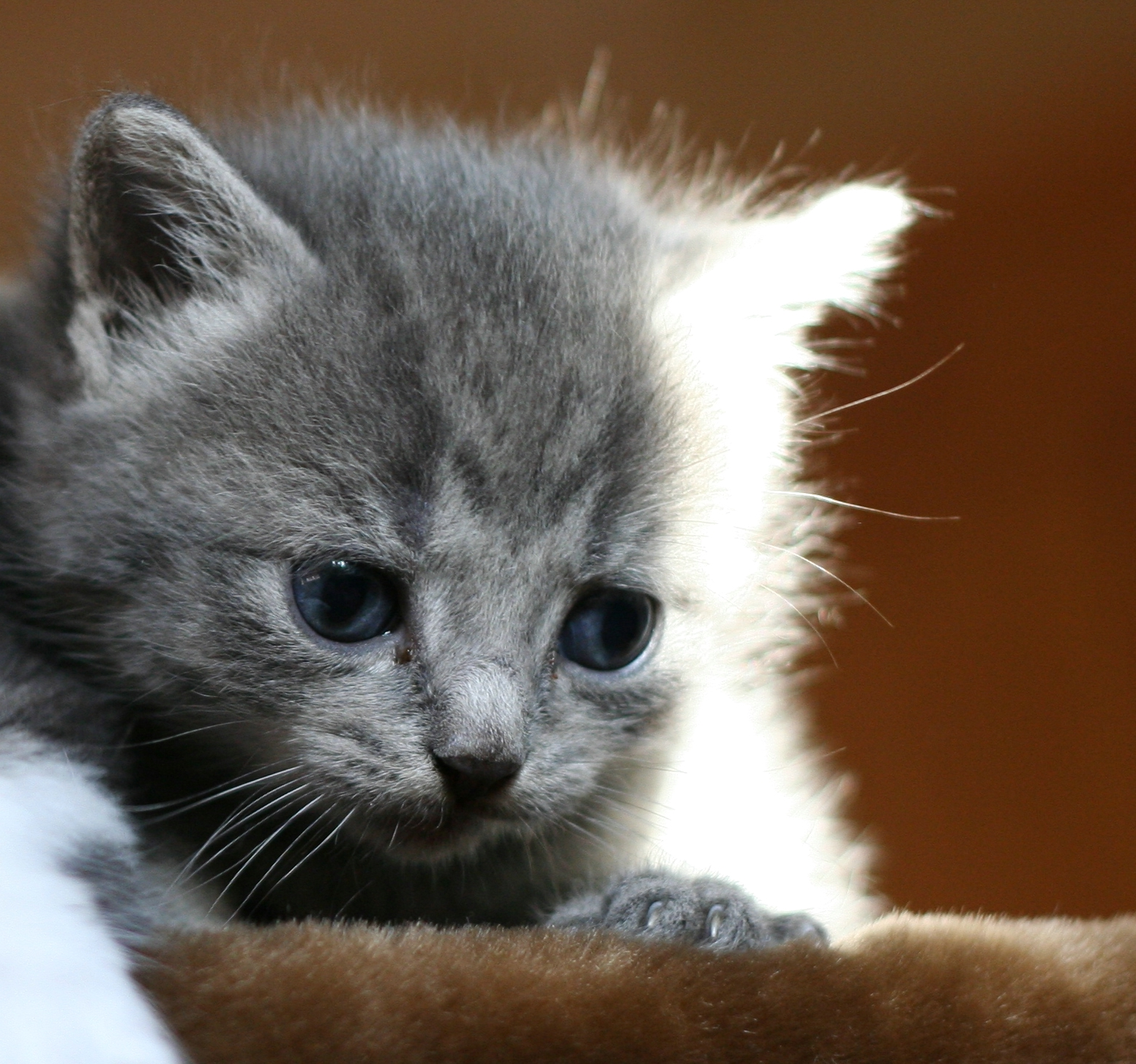cat: (0, 48, 965, 1063)
